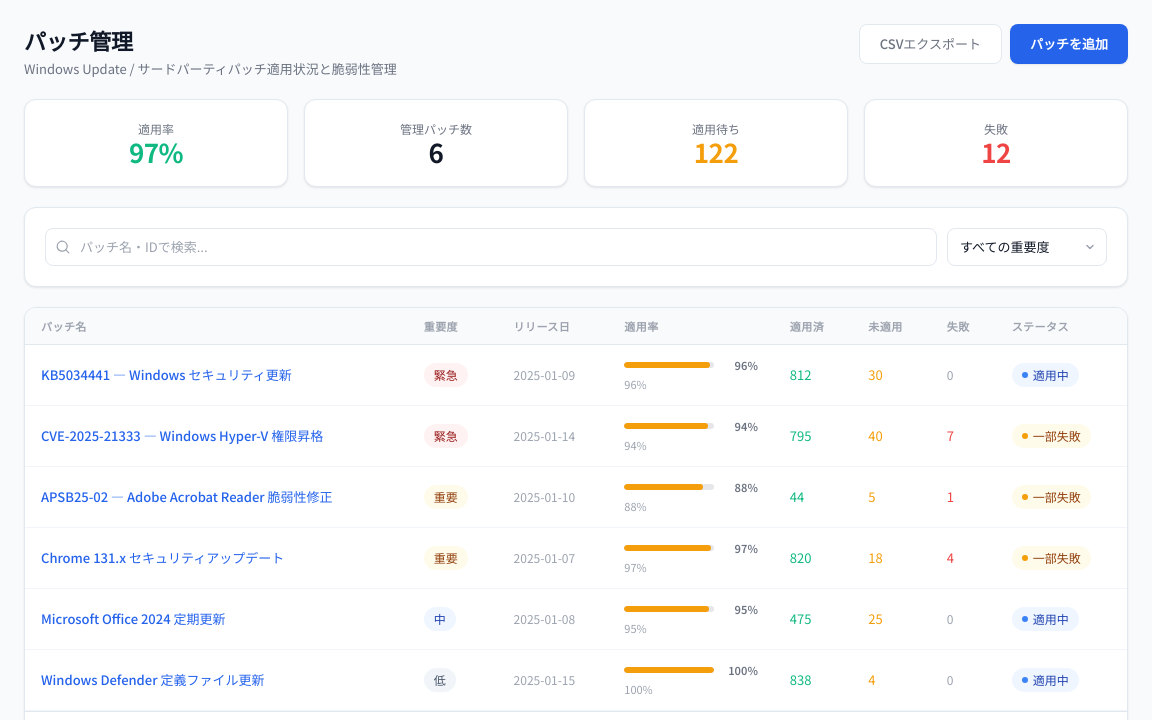
Patches page (static design-data driven) › severity filter changes visible count
Select "緊急" in the dropdown at (1027, 247), box [947,228,1107,266]
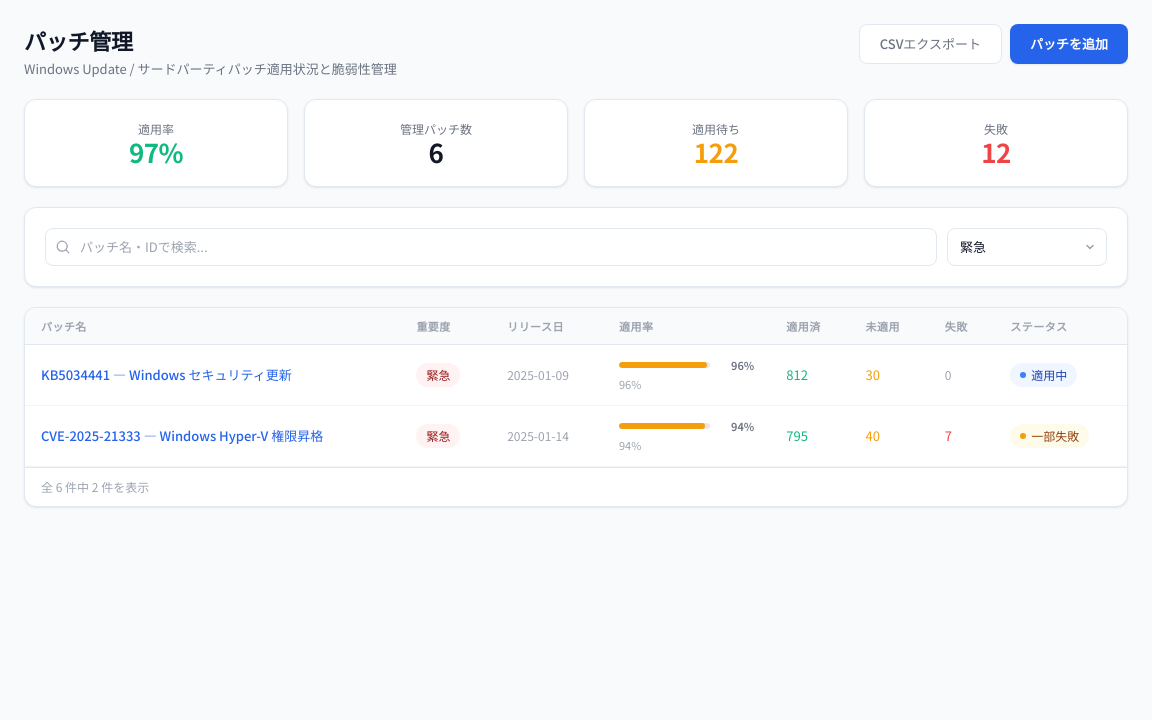
Expected: the text "全 6 件中 2 件を表示" is shown, [41,478,149,496]
